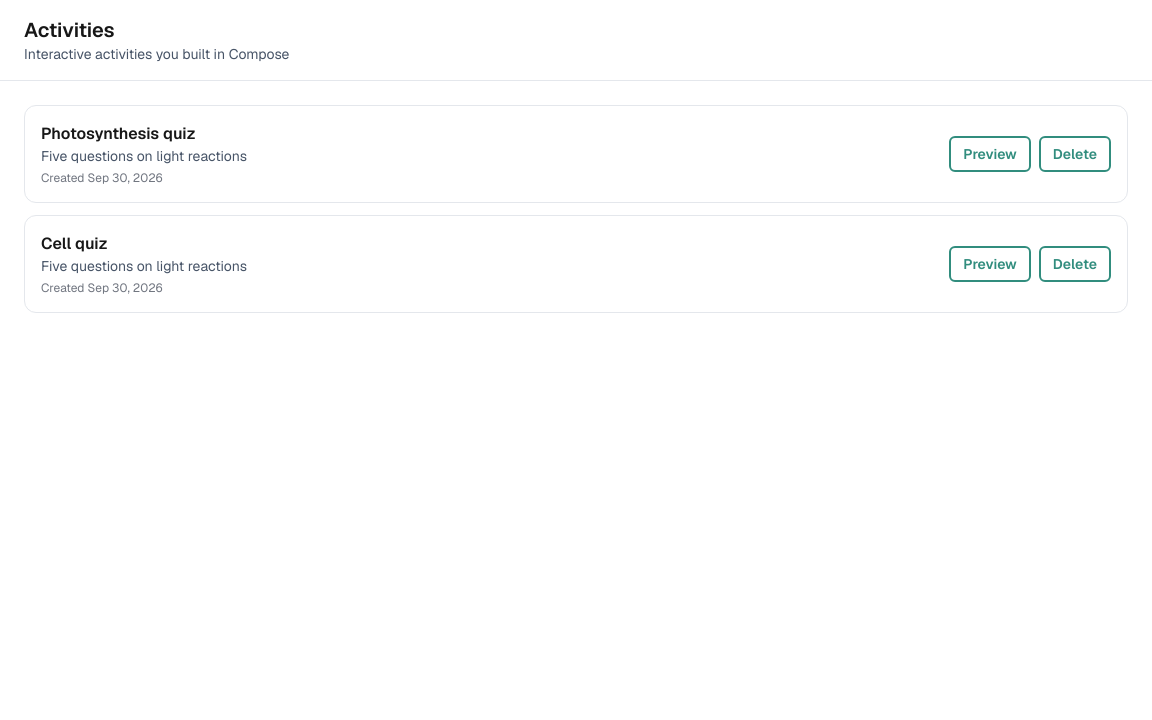
Test case: ActivityList › removes an activity from the list once it is deleted
The width and height of the screenshot is (1152, 720).
Click the button with aria-label "Delete Photosynthesis quiz".
click(1075, 154)  # box [1039,136,1111,172]
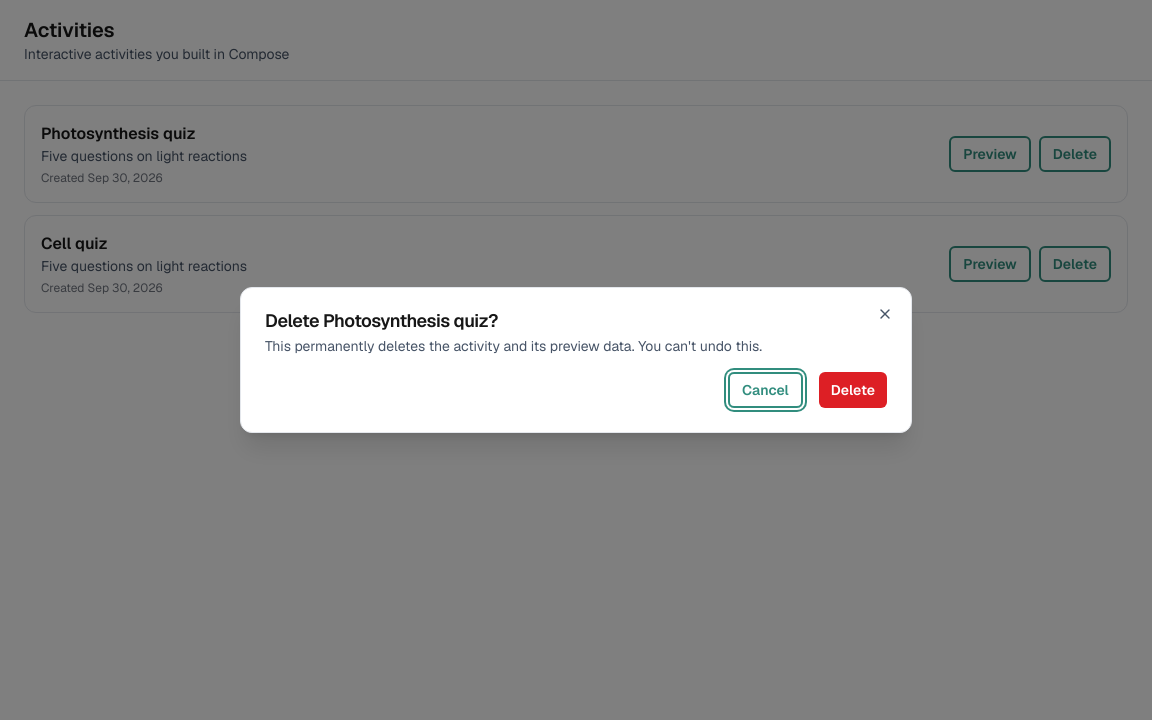
Click the button "Delete".
click(853, 390)  # box [819,372,887,408]
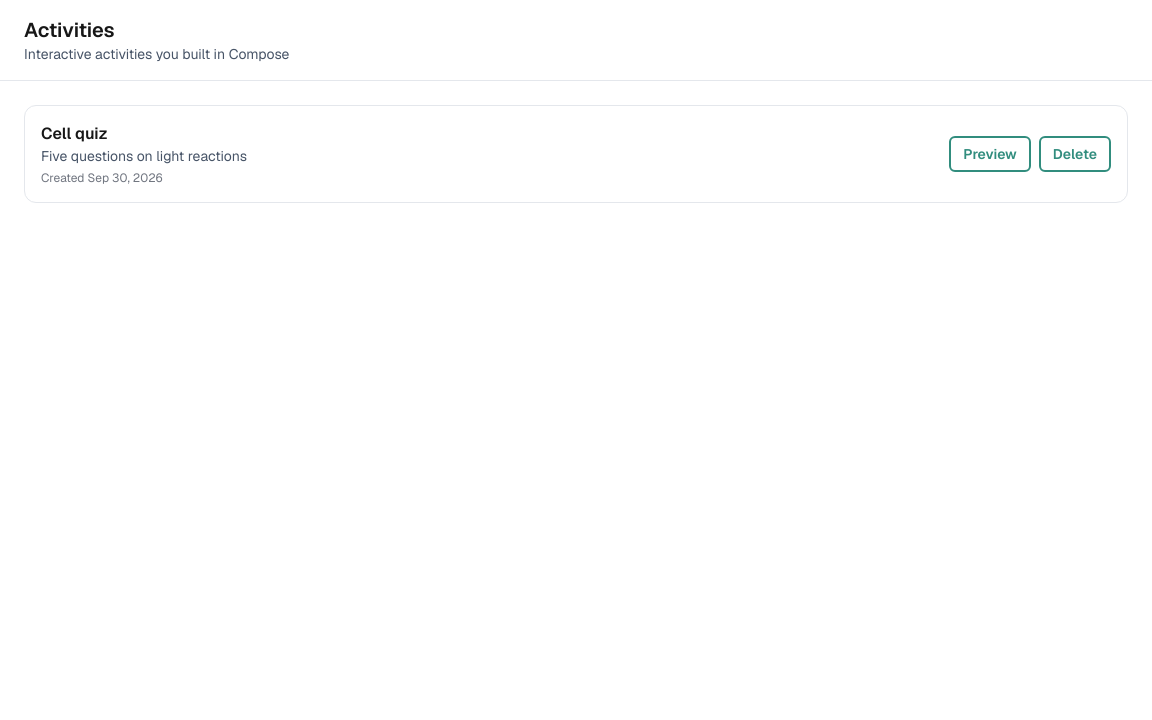
Expected: the heading "Cell quiz" is shown, [41,122,108,146]
Result: the heading "Photosynthesis quiz" is gone
